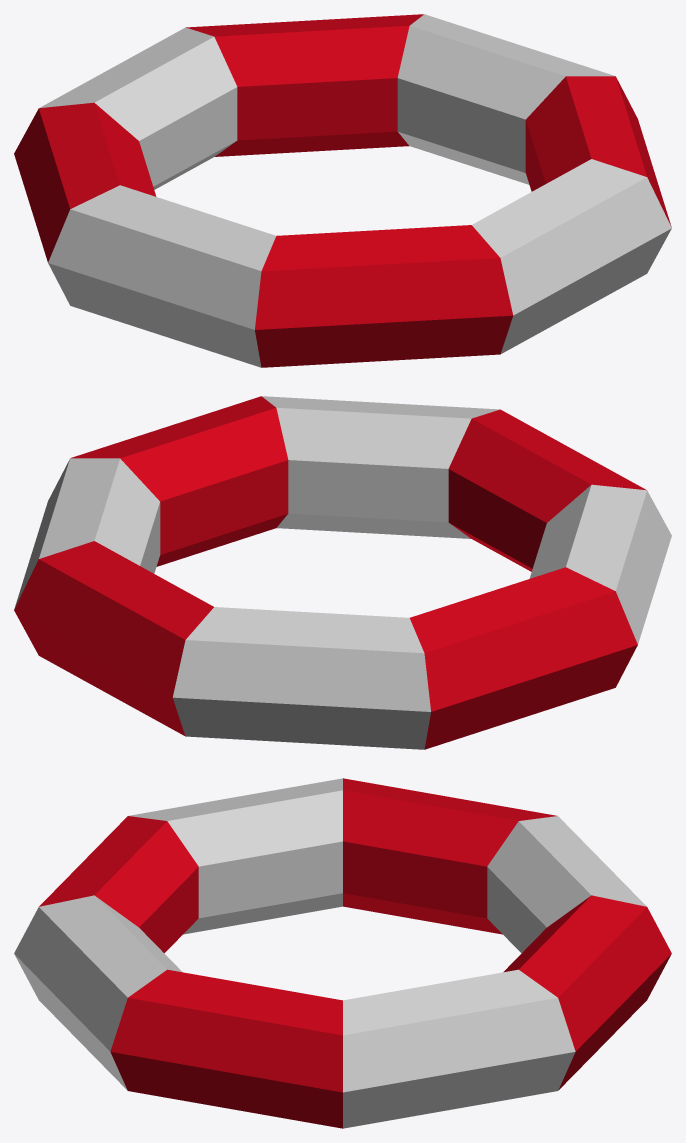
File: band.fbx
3 renders of one model, top to bottom at view 1: azimuth 30°, elevation 25°; view 2: azimuth 150°, elevation 25°; view 3: azimuth 270°, elevation 25°, orthographic. The views are drawn at different scales.
Visible parts, largest first — view 1: Torus.001; view 2: Torus.001; view 3: Torus.001.
Boxes of the visible parts, x1,y1,x2,y2 form: Torus.001: [14, 14, 671, 367]; Torus.001: [14, 396, 671, 749]; Torus.001: [14, 778, 671, 1128].
Size of the model in its own units: 1.38 by 0.2681 by 1.38.
